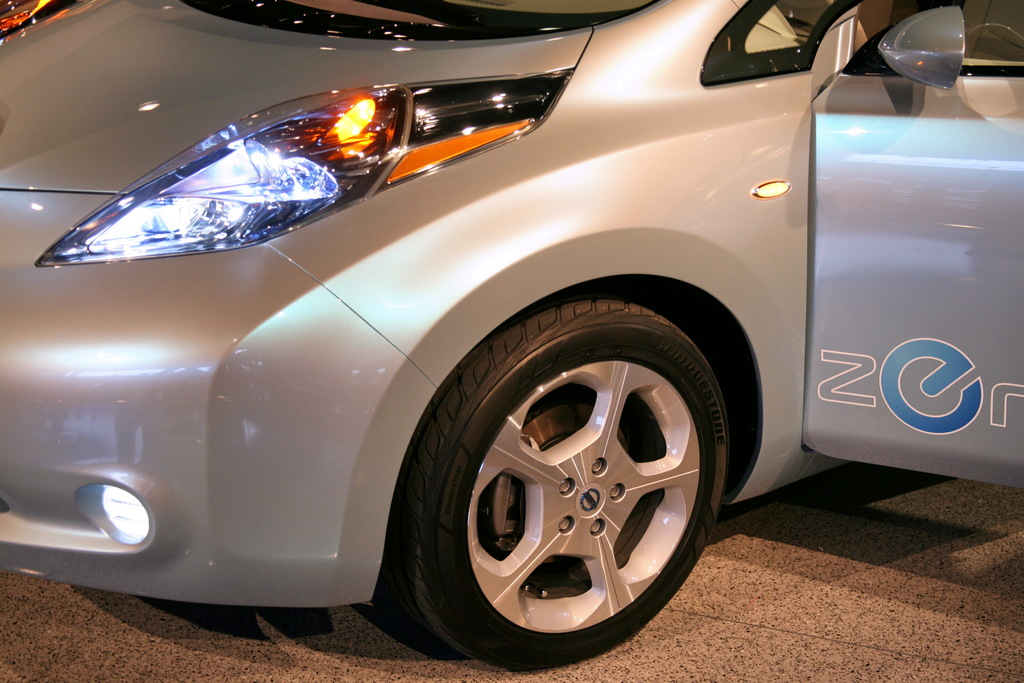Car: (0, 0, 1024, 672)
